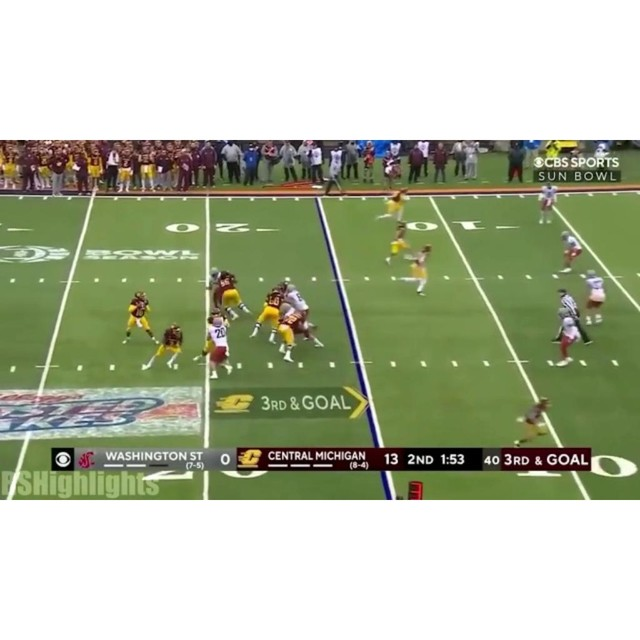american-football-player: (141, 322, 184, 371), (250, 285, 286, 342), (513, 396, 553, 447), (551, 309, 582, 366), (124, 293, 157, 345), (218, 269, 251, 321), (206, 316, 233, 379), (401, 244, 432, 297), (275, 306, 302, 363), (581, 269, 607, 326), (384, 221, 412, 266), (375, 188, 409, 223), (557, 230, 583, 274), (536, 183, 559, 225), (205, 267, 222, 312)
referee: (551, 289, 592, 346)
